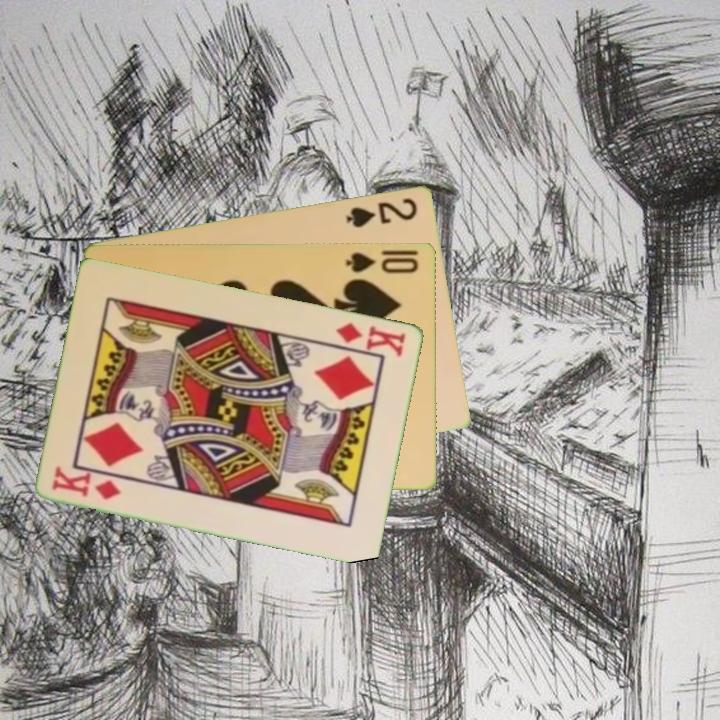10s: (342, 248, 421, 276)
2s: (342, 194, 421, 231)
Kd: (333, 318, 409, 359), (49, 464, 125, 502)
